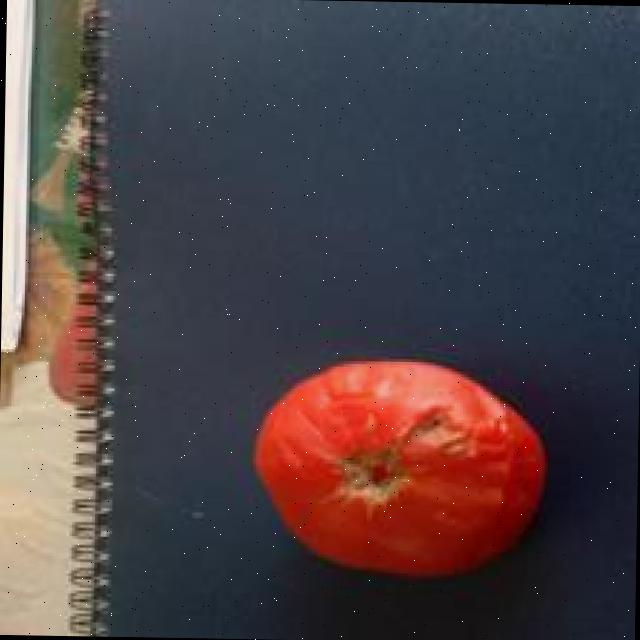overripe: (244, 348, 552, 581)
